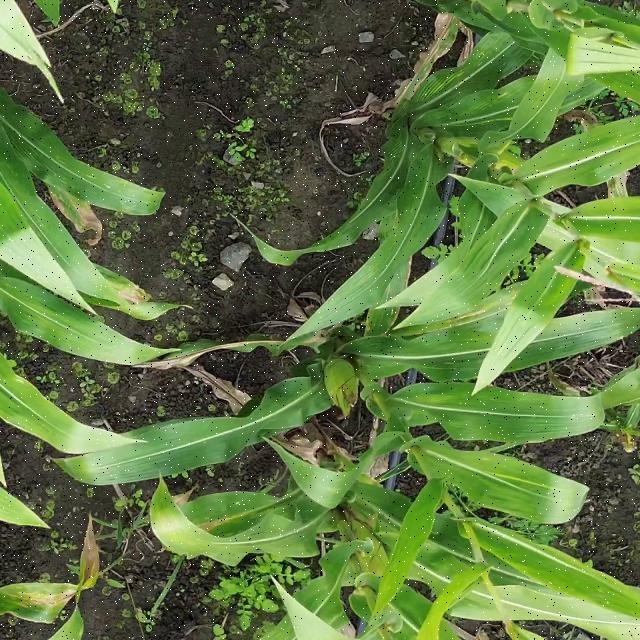gray-leaf-spot: (39, 146, 218, 244), (391, 36, 527, 139), (339, 318, 490, 382)
northern-leaf-blight: (0, 519, 114, 612), (87, 259, 168, 307)
